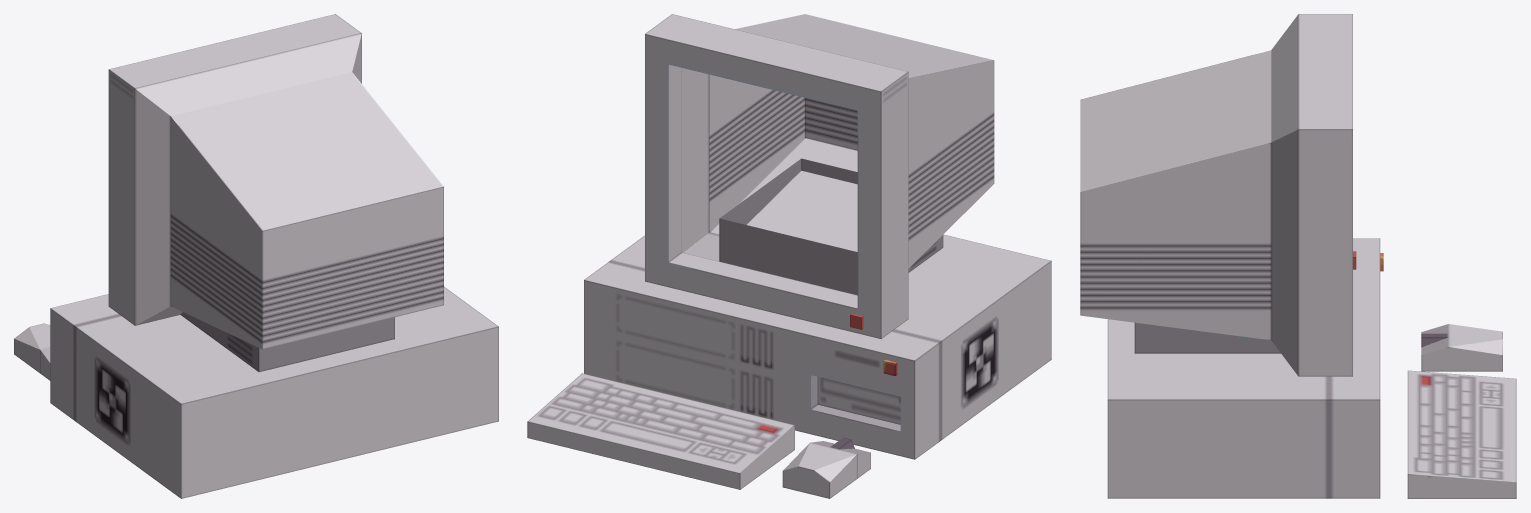
Rendered from old_computer_noscreen.gltf.
3 views of the same model, side by side, from view 1: azimuth 30°, elevation 25°; view 2: azimuth 150°, elevation 25°; view 3: azimuth 270°, elevation 25° (orthographic). The views are drawn at different scales.
Visible parts, largest first — view 1: monitor, pc, neck, mouse; view 2: monitor, pc, keyboard, neck, mouse; view 3: monitor, pc, keyboard, mouse, neck.
Part boxes in pixels (<box>): monitor: <box>108,14,443,349</box>; pc: <box>50,286,498,498</box>; neck: <box>180,312,394,372</box>; mouse: <box>14,323,50,380</box>; monitor: <box>645,14,994,338</box>; pc: <box>584,234,1051,459</box>; keyboard: <box>527,373,794,489</box>; neck: <box>719,158,943,295</box>; mouse: <box>782,437,870,498</box>; monitor: <box>1080,14,1352,376</box>; pc: <box>1107,238,1380,498</box>; keyboard: <box>1407,370,1516,498</box>; mouse: <box>1421,324,1502,371</box>; neck: <box>1134,322,1280,353</box>.
Bounding box in the file's own units: 0.875 × 0.8906 × 1.
Materials: 3 (3 with a texture image).
